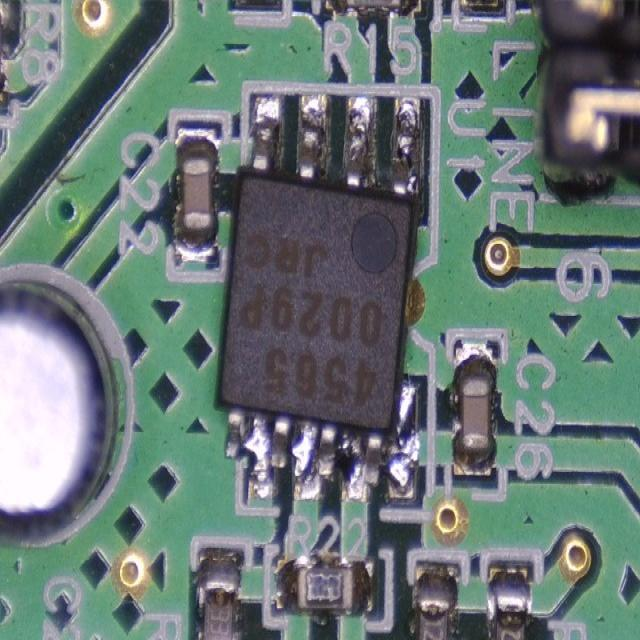Incorrect_installation: (215, 91, 420, 502)
Short_circuit: (225, 384, 417, 500)
